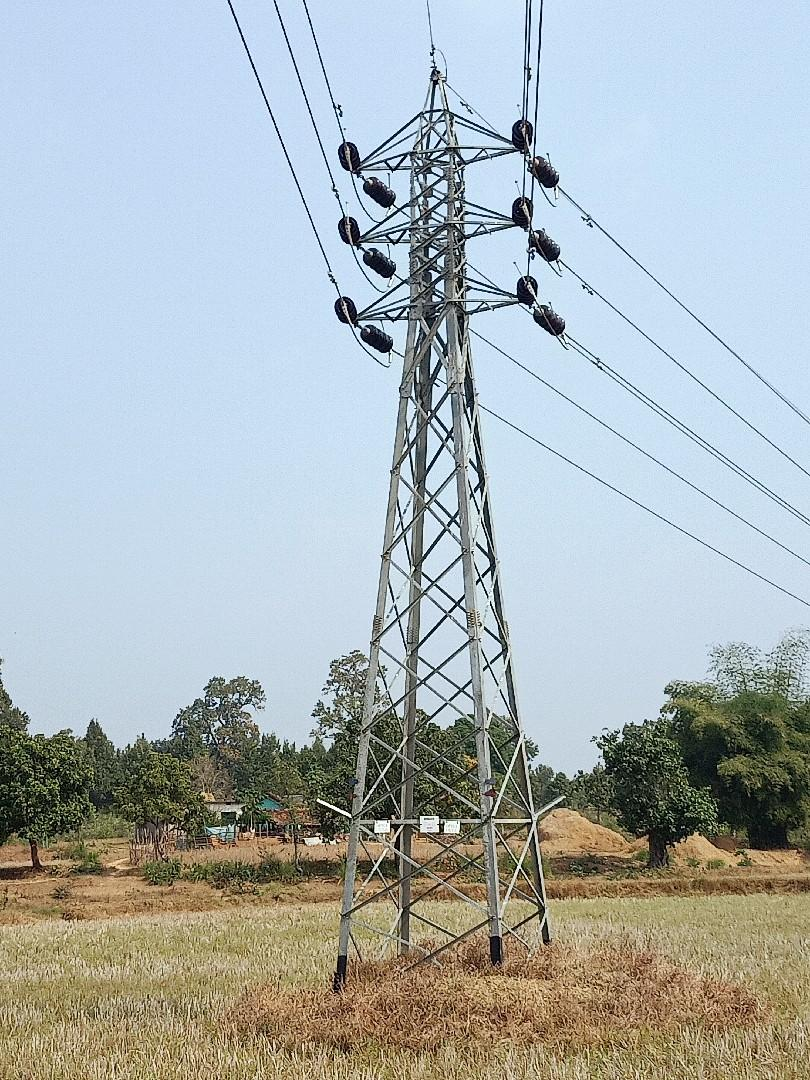GSM Antenna: (306, 60, 574, 935)
